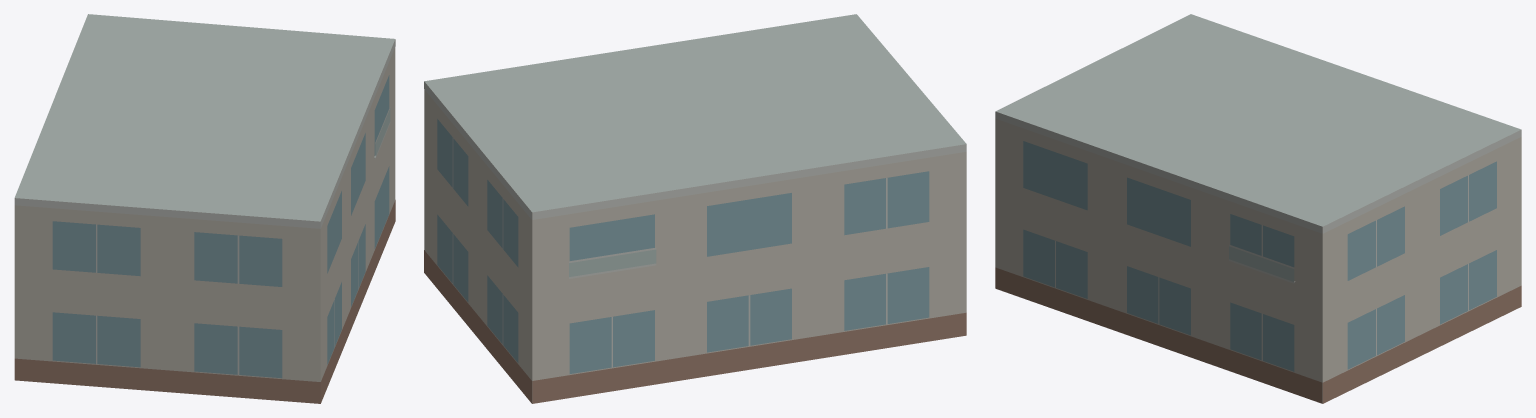
File: survey-upis-32891244.glb
3 views of the same model, side by side, from view 1: azimuth 30°, elevation 25°; view 2: azimuth 150°, elevation 25°; view 3: azimuth 270°, elevation 25° (orthographic). The views are drawn at different scales.
Parts seen in each view (by area): view 1: survey-upis-32891244.tmp; view 2: survey-upis-32891244.tmp; view 3: survey-upis-32891244.tmp.
Part boxes in pixels (<box>): survey-upis-32891244.tmp: <box>14,14,395,403</box>; survey-upis-32891244.tmp: <box>424,14,966,403</box>; survey-upis-32891244.tmp: <box>995,14,1521,403</box>.
Bounding box in the file's own units: 15.72 × 6.1 × 16.44.
